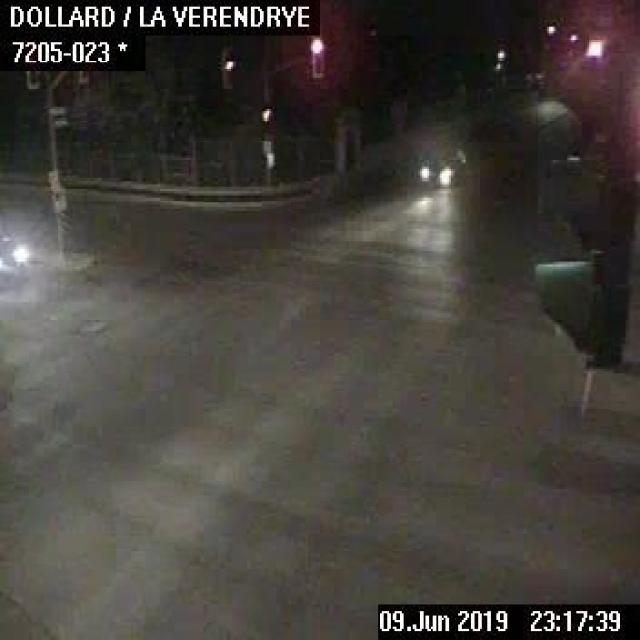vehicle: (412, 146, 466, 188), (0, 227, 29, 282)
